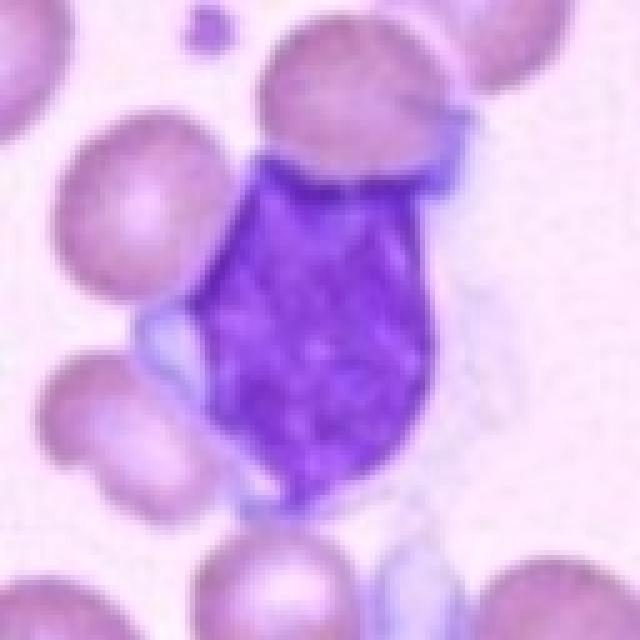lympho: (121, 78, 520, 546)
